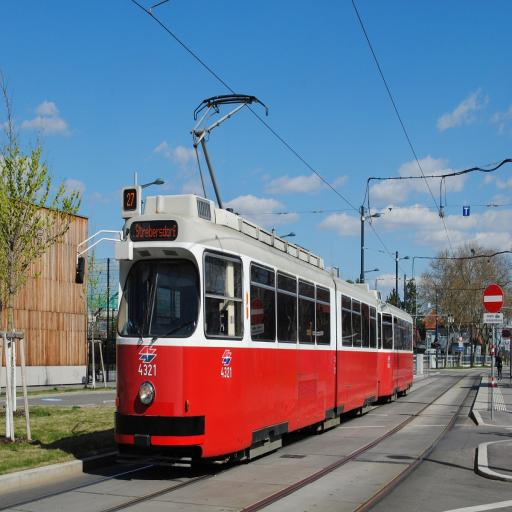E2-Tram: (109, 186, 415, 456)
